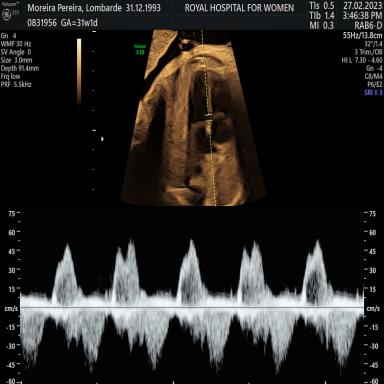Ultrasound-Waves: (22, 207, 364, 383)
